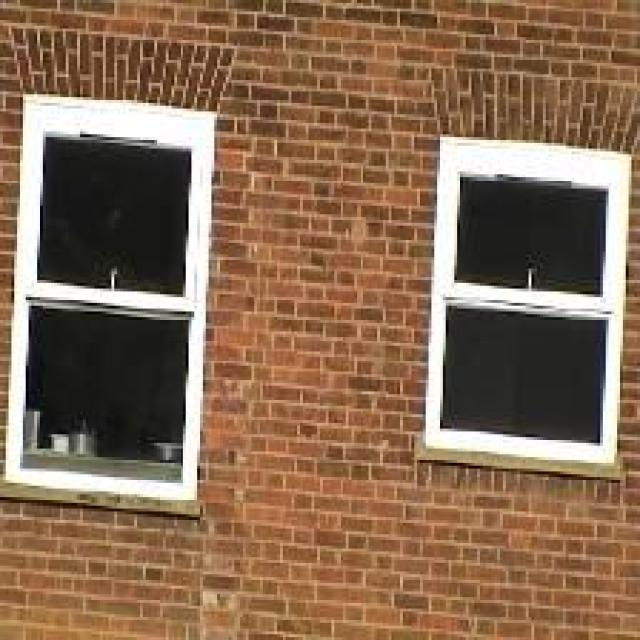other: (15, 82, 624, 584)
